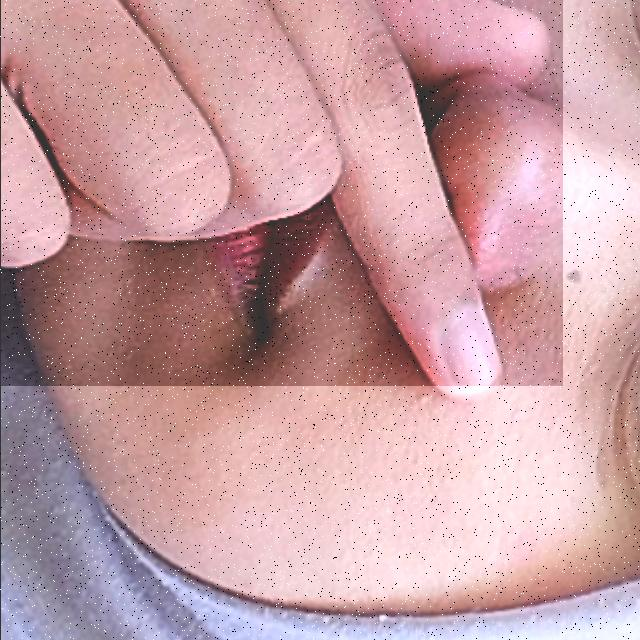bau: (0, 0, 562, 386)
